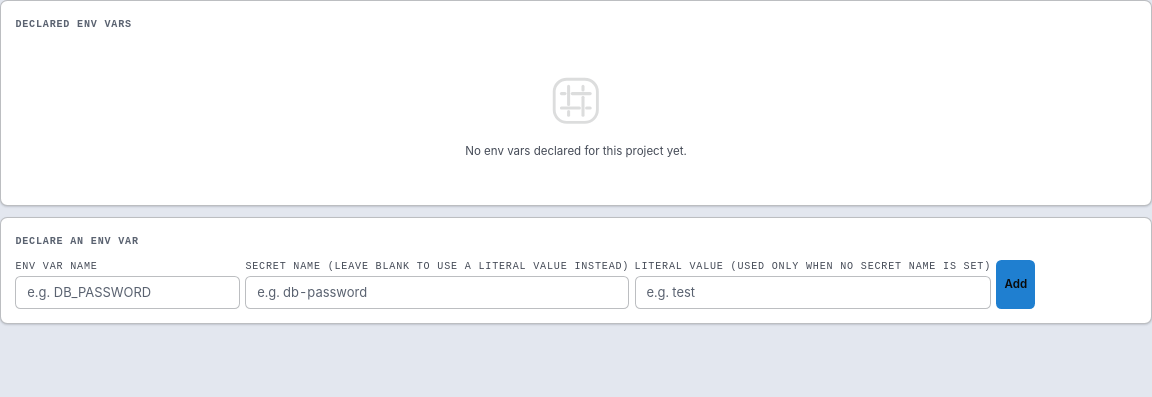
Scenario: ProjectSecretsPanel (issue #258) › rejects an add with neither a secret name nor a literal value, with a visible reason
Type "EMPTY" into the field with test id "env-add-name" at x=128, y=292, box [15,276,240,309]
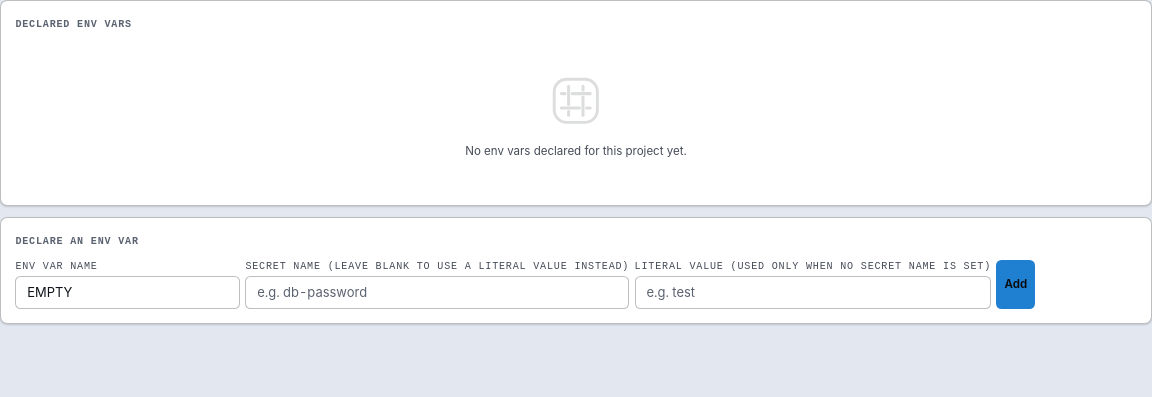
Click the button with test id "env-add-submit" at x=1016, y=284, box [996,260,1035,309]
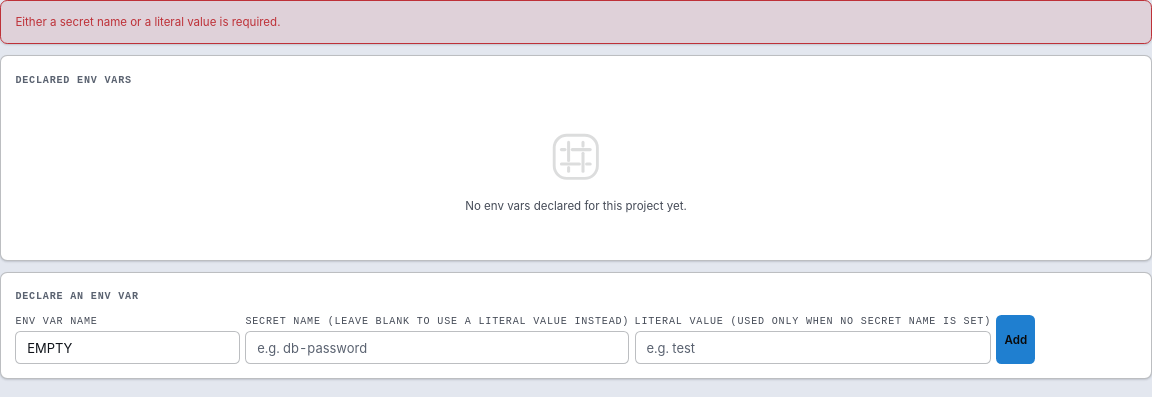
Check: the message "Either a secret name or a literal value is required." is shown, box [0,0,1151,44]
